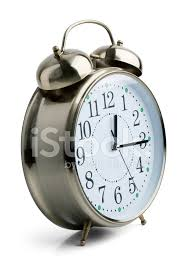alarm_clock: (21, 19, 166, 247), (35, 19, 166, 247)
